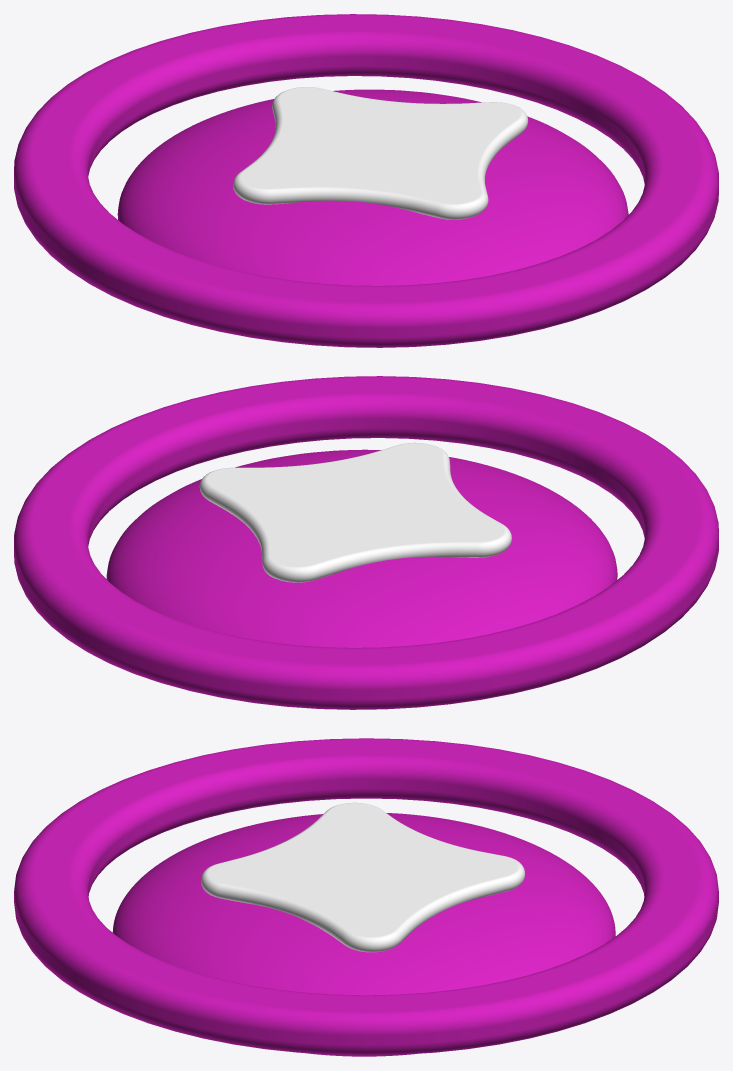
File: BOTÃOpink.glb
The picture shows the model from 3 angles, top to bottom: view 1: azimuth 30°, elevation 25°; view 2: azimuth 150°, elevation 25°; view 3: azimuth 270°, elevation 25°; orthographic projection. The views are drawn at different scales.
Parts seen in each view (by area): view 1: Ellipse 3, Sphere 3, Star 3; view 2: Ellipse 3, Sphere 3, Star 3; view 3: Ellipse 3, Sphere 3, Star 3.
Part boxes in pixels (x1,y1,x2,y2): Ellipse 3: (14,14,718,347); Sphere 3: (117,89,628,285); Star 3: (233,87,528,219); Ellipse 3: (14,376,718,709); Sphere 3: (106,449,617,647); Star 3: (199,442,511,582); Ellipse 3: (14,738,718,1055); Sphere 3: (112,813,615,1056); Star 3: (201,802,525,952).
Bounding box in the file's own units: 3.72 × 0.7915 × 3.86.
